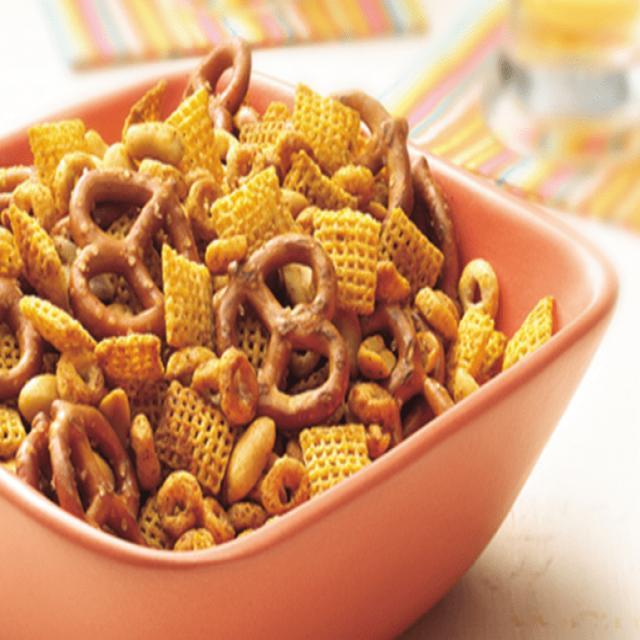Salatini: (11, 63, 561, 571)
